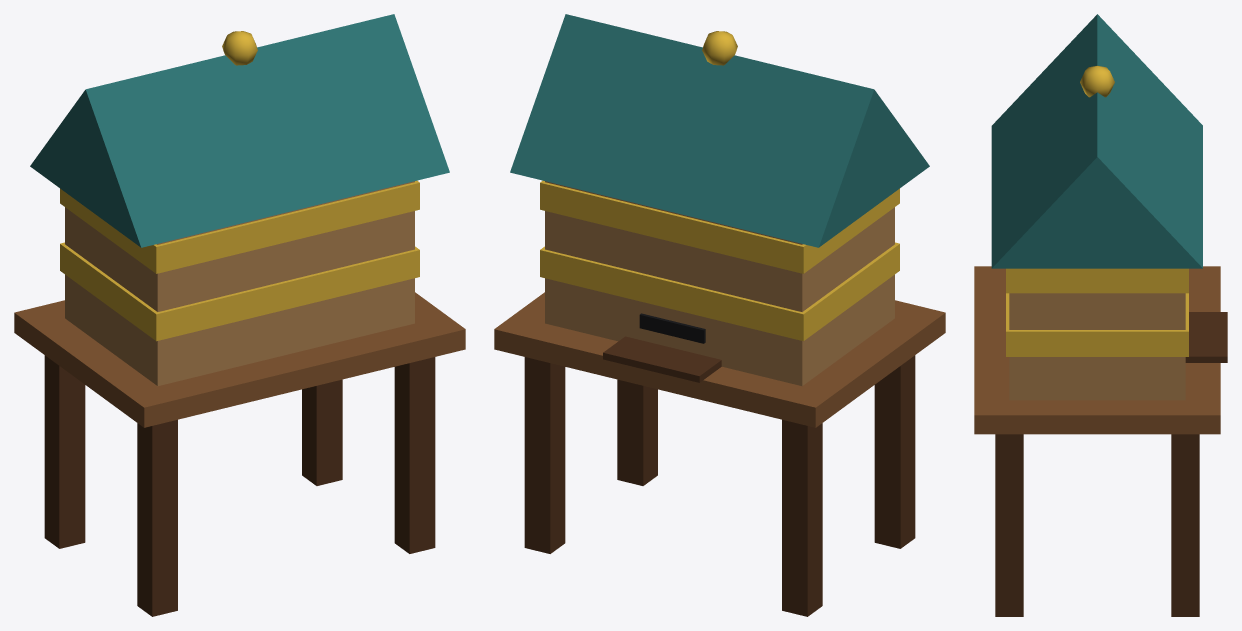
Rendered from kit-beehive-box-on-stand.glb.
The picture shows the model from 3 angles, left to right: view 1: azimuth 30°, elevation 25°; view 2: azimuth 150°, elevation 25°; view 3: azimuth 270°, elevation 25°; orthographic projection. The views are drawn at different scales.
Parts seen in each view (by area): view 1: beehive_box_on_stand; view 2: beehive_box_on_stand; view 3: beehive_box_on_stand.
Boxes of the visible parts, x1,y1,x2,y2 form: beehive_box_on_stand: (14, 14, 465, 616); beehive_box_on_stand: (494, 14, 945, 616); beehive_box_on_stand: (974, 14, 1227, 616).
Bounding box in the file's own units: 1 × 1.52 × 0.72.
